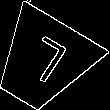L_SW: (15, 33, 70, 92)
